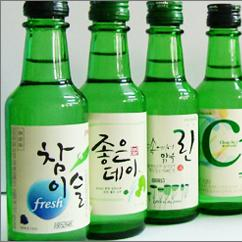soju: (4, 1, 241, 242)
